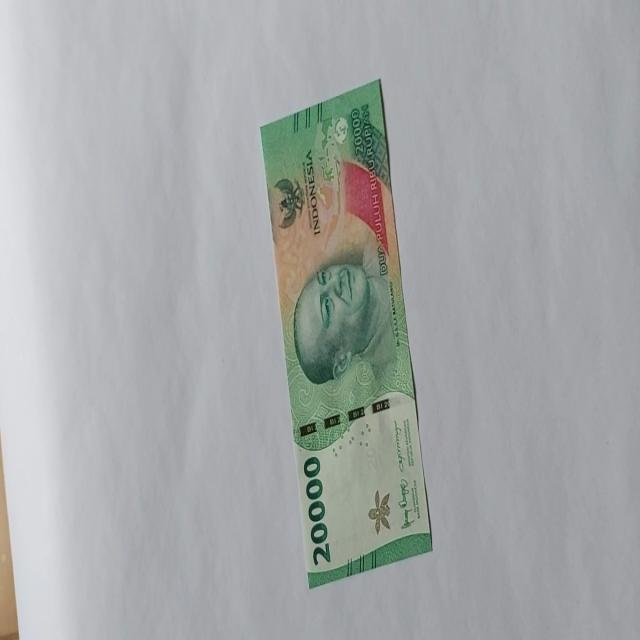dua puluh ribu rupiah: (258, 78, 434, 588), (291, 244, 397, 386)
